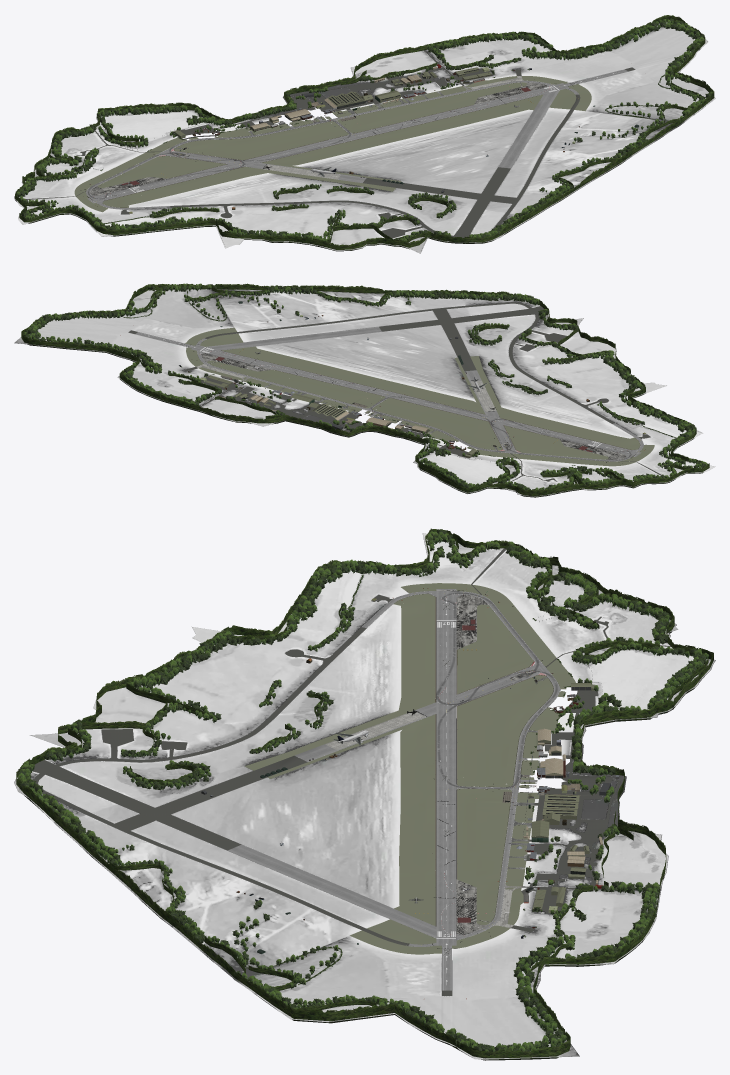
The model's file is dunsfold.glb.
3 renders of one model, top to bottom at view 1: azimuth 30°, elevation 25°; view 2: azimuth 150°, elevation 25°; view 3: azimuth 270°, elevation 25°, orthographic. The views are drawn at different scales.
Visible parts, largest first — view 1: landscape_chunk0, grass-infield_chunk0, trees_chunk0, treeline_chunk0, tarmac-main_chunk0, road_chunk0, Material #107_chunk0, road_helipad_001_chunk0, Material #1178_chunk0, road_helipad_003_chunk0, concrete_mark_chunk0, road_helipad_002_chunk0 (+1 smaller); view 2: landscape_chunk0, grass-infield_chunk0, trees_chunk0, treeline_chunk0, tarmac-main_chunk0, road_chunk0, Material #107_chunk0, road_helipad_001_chunk0, Material #1178_chunk0, road_helipad_003_chunk0, concrete_mark_chunk0, road_helipad_002_chunk0 (+1 smaller); view 3: landscape_chunk0, grass-infield_chunk0, trees_chunk0, treeline_chunk0, tarmac-main_chunk0, road_chunk0, Material #107_chunk0, road_helipad_001_chunk0, concrete_mark_chunk0, road_helipad_003_chunk0, Material #1178_chunk0, road_helipad_002_chunk0 (+1 smaller).
Part boxes in pixels (bbox=[...]): landscape_chunk0: bbox=[14, 22, 715, 253]; grass-infield_chunk0: bbox=[74, 76, 591, 212]; trees_chunk0: bbox=[16, 18, 712, 243]; treeline_chunk0: bbox=[15, 15, 714, 251]; tarmac-main_chunk0: bbox=[86, 69, 627, 209]; road_chunk0: bbox=[15, 50, 634, 242]; Material #107_chunk0: bbox=[173, 67, 491, 138]; road_helipad_001_chunk0: bbox=[90, 76, 546, 195]; Material #1178_chunk0: bbox=[104, 94, 543, 200]; road_helipad_003_chunk0: bbox=[89, 76, 538, 202]; concrete_mark_chunk0: bbox=[91, 83, 546, 195]; road_helipad_002_chunk0: bbox=[90, 84, 539, 194]; landscape_chunk0: bbox=[14, 289, 715, 496]; grass-infield_chunk0: bbox=[185, 327, 654, 466]; trees_chunk0: bbox=[23, 283, 707, 490]; treeline_chunk0: bbox=[21, 283, 709, 497]; tarmac-main_chunk0: bbox=[135, 326, 643, 461]; road_chunk0: bbox=[129, 302, 671, 488]; Material #107_chunk0: bbox=[206, 375, 477, 457]; road_helipad_001_chunk0: bbox=[196, 353, 626, 459]; Material #1178_chunk0: bbox=[221, 350, 631, 452]; road_helipad_003_chunk0: bbox=[197, 355, 639, 459]; concrete_mark_chunk0: bbox=[201, 353, 625, 459]; road_helipad_002_chunk0: bbox=[206, 355, 622, 459]; landscape_chunk0: bbox=[14, 533, 715, 1059]; grass-infield_chunk0: bbox=[245, 583, 575, 954]; trees_chunk0: bbox=[17, 529, 708, 1051]; treeline_chunk0: bbox=[16, 528, 713, 1060]; tarmac-main_chunk0: bbox=[228, 589, 560, 990]; road_chunk0: bbox=[33, 548, 670, 995]; Material #107_chunk0: bbox=[528, 683, 599, 910]; road_helipad_001_chunk0: bbox=[456, 594, 522, 935]; concrete_mark_chunk0: bbox=[456, 594, 535, 935]; road_helipad_003_chunk0: bbox=[331, 590, 536, 929]; Material #1178_chunk0: bbox=[435, 597, 545, 926]; road_helipad_002_chunk0: bbox=[325, 595, 504, 930].
Size of what is drawn, in the model's own units: 2774 by 42.99 by 1566.
182 materials, 182 textured.
